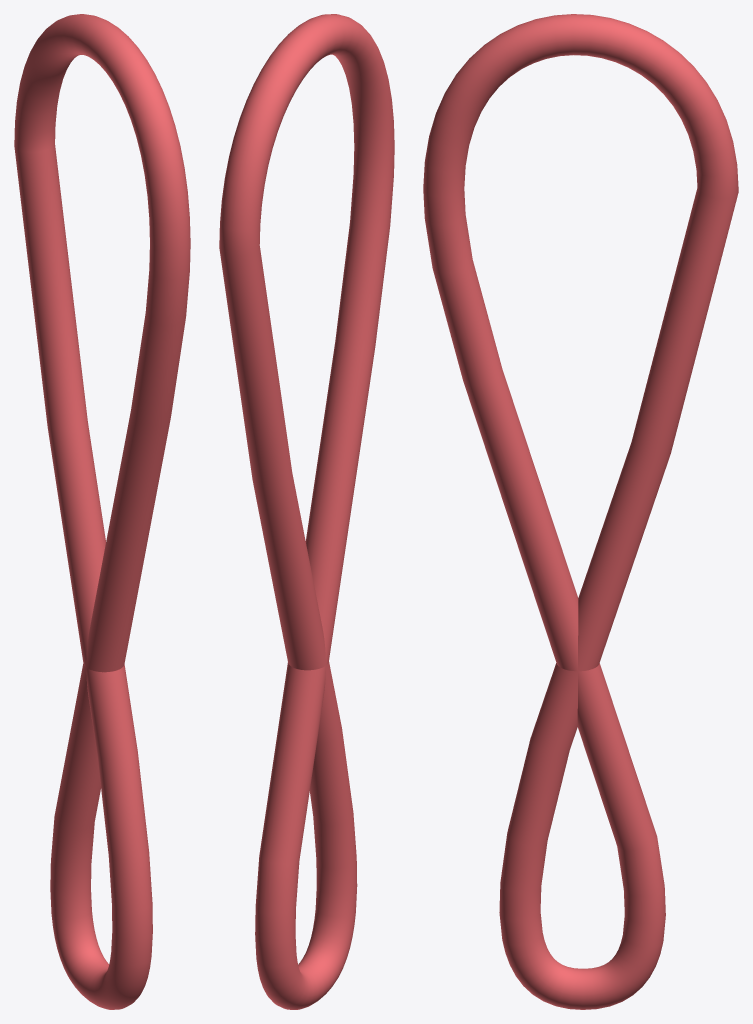
The model's file is loop.dae.
The picture shows the model from 3 angles, left to right: view 1: azimuth 30°, elevation 25°; view 2: azimuth 150°, elevation 25°; view 3: azimuth 270°, elevation 25°; orthographic projection.
Parts seen in each view (by area): view 1: Sweep; view 2: Sweep; view 3: Sweep.
Boxes of the visible parts, box(x1,y1,x2,y2) form: Sweep: box(14, 14, 190, 1009); Sweep: box(219, 14, 394, 1009); Sweep: box(423, 14, 738, 1009).
Bounding box in the file's own units: 0.3 × 8 × 2.3.
